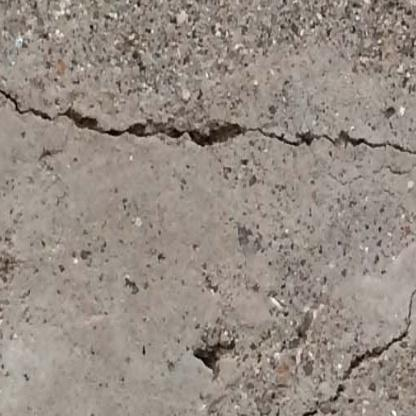Cracks: (0, 85, 416, 171), (279, 263, 416, 416)
